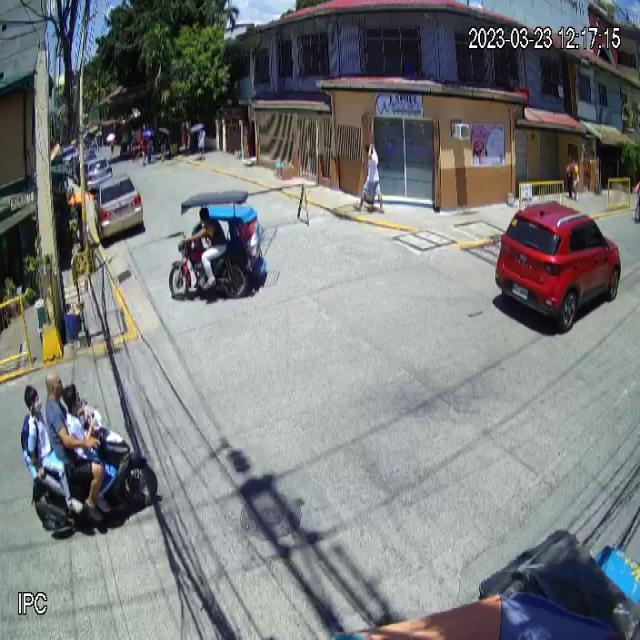Car: (495, 200, 622, 332)
Motorcycle: (31, 427, 158, 538)
Tricycle: (169, 192, 267, 300)
